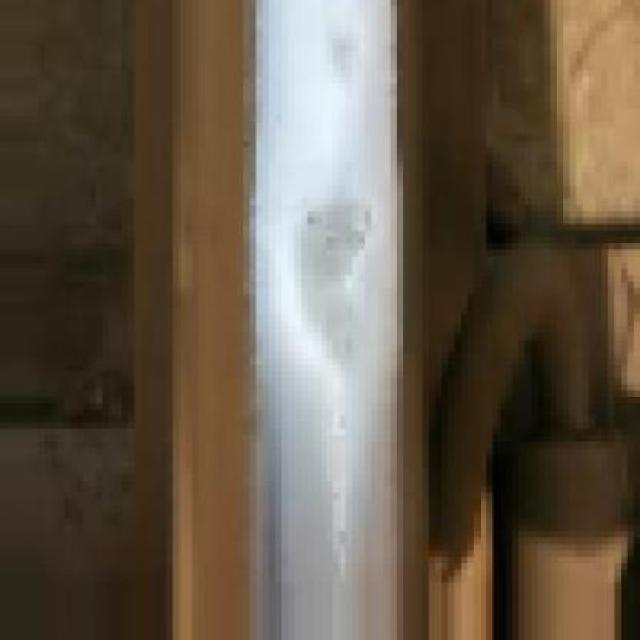non-defective: (144, 6, 466, 640)
